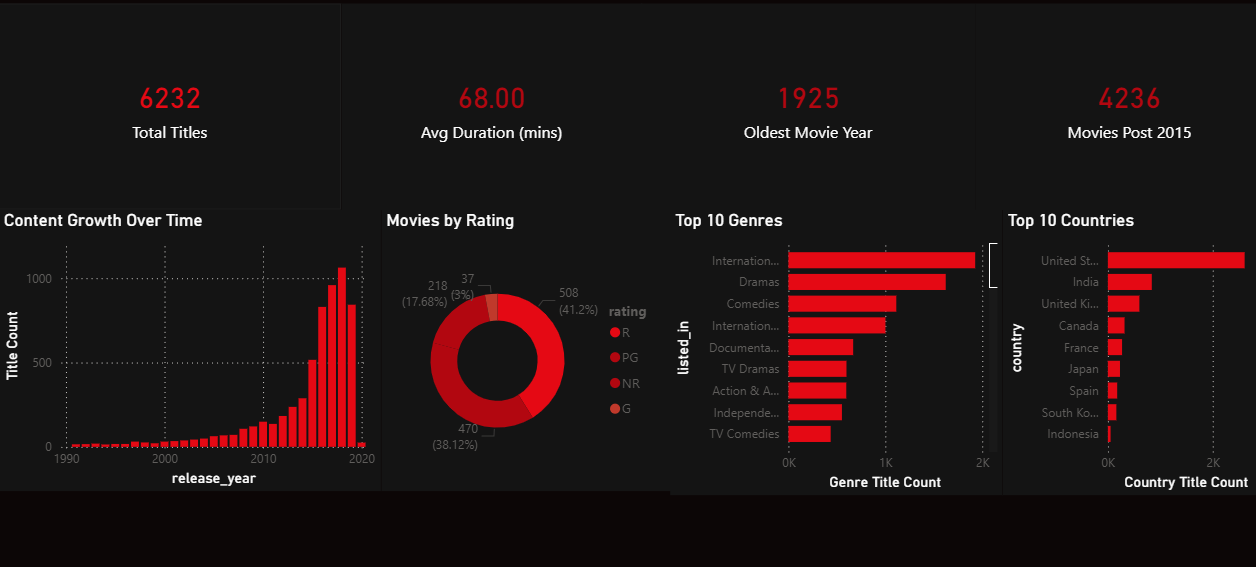

Layout of this report page (visuals, bound fields, positions):
{"tool":"powerbi","page":{"name":"Page 1","canvas":[1280,720],"ordinal":0},"visuals":[{"type":"card","fields":{"Values":["gold_netflixtitles.Total Titles"]},"box":[0,12.3,340.3,205.8],"z":0},{"type":"card","fields":{"Values":["gold_netflixtitles.Oldest Movie Year"]},"box":[639.5,12.3,332.1,205.8],"z":1000},{"type":"card","fields":{"Values":["gold_netflixtitles.Movies Post 2015"]},"box":[971.5,12.3,307.4,205.8],"z":2000},{"type":"card","fields":{"Values":["gold_netflixtitles.Avg Duration (mins)"]},"box":[340.3,12.3,299.1,205.8],"z":3000},{"type":"clusteredColumnChart","title":"Content Growth Over Time","fields":{"Category":["gold_netflixtitles.release_year"],"Y":["gold_netflixtitles.Title Count"]},"box":[0,218.2,380.1,279.9],"z":4000},{"type":"donutChart","title":"Movies by Rating","fields":{"Category":["gold_netflixtitles.rating"],"Y":["gold_netflixtitles.Title Count"]},"box":[380.1,218.2,288.2,279.9],"z":5000},{"type":"clusteredBarChart","title":"Top 10 Countries","fields":{"Category":["gold_netflixcountries.country"],"Y":["gold_netflixcountries.Country Title Count"]},"box":[999,218.2,281.3,284],"z":6000},{"type":"clusteredBarChart","title":"Top 10 Genres","fields":{"Category":["gold_netflixcategory.listed_in"],"Y":["gold_netflixcategory.Genre Title Count"]},"box":[668.3,218.2,330.7,284],"z":7000}]}

Visuals, with their boxes on the page's 1280x720 design canvas (x1, y1, x2, y2). These are canvas units, not pixel positions in the 1256x567 screenshot, which may show the page scaled, cropped or inside an application window:
card - gold_netflixtitles.Total Titles: left=0, top=12, right=340, bottom=218
card - gold_netflixtitles.Oldest Movie Year: left=640, top=12, right=972, bottom=218
card - gold_netflixtitles.Movies Post 2015: left=972, top=12, right=1279, bottom=218
card - gold_netflixtitles.Avg Duration (mins): left=340, top=12, right=639, bottom=218
"Content Growth Over Time" clusteredColumnChart: left=0, top=218, right=380, bottom=498
"Movies by Rating" donutChart: left=380, top=218, right=668, bottom=498
"Top 10 Countries" clusteredBarChart: left=999, top=218, right=1280, bottom=502
"Top 10 Genres" clusteredBarChart: left=668, top=218, right=999, bottom=502
